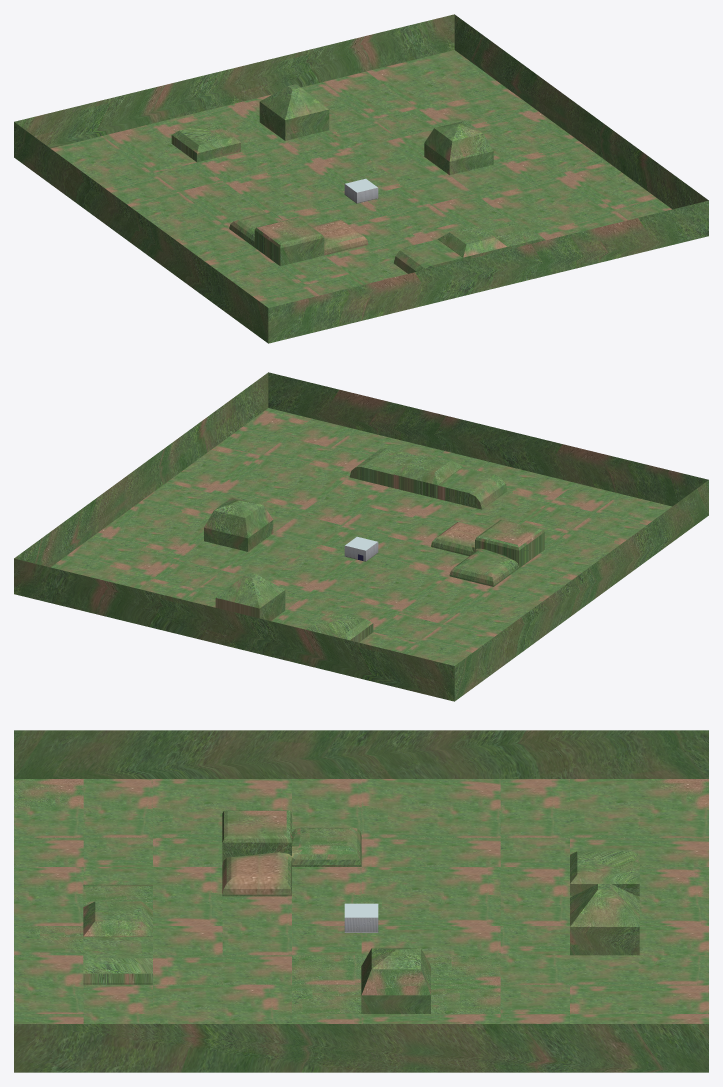
The model's file is Room1.glb.
3 views of the same model, one above another, from view 1: azimuth 30°, elevation 25°; view 2: azimuth 150°, elevation 25°; view 3: azimuth 270°, elevation 25° (orthographic). The views are drawn at different scales.
Visible parts, largest first — view 1: Ground, Room; view 2: Ground, Room; view 3: Ground, Room.
Part boxes in pixels (x1,y1,x2,y2): Ground: [14, 14, 708, 343]; Room: [344, 178, 378, 203]; Ground: [14, 372, 708, 701]; Room: [344, 536, 378, 561]; Ground: [14, 730, 708, 1072]; Room: [344, 903, 378, 932].
Bounding box in the file's own units: 500 × 42.61 × 500.
Materials: 5 (3 with a texture image).
